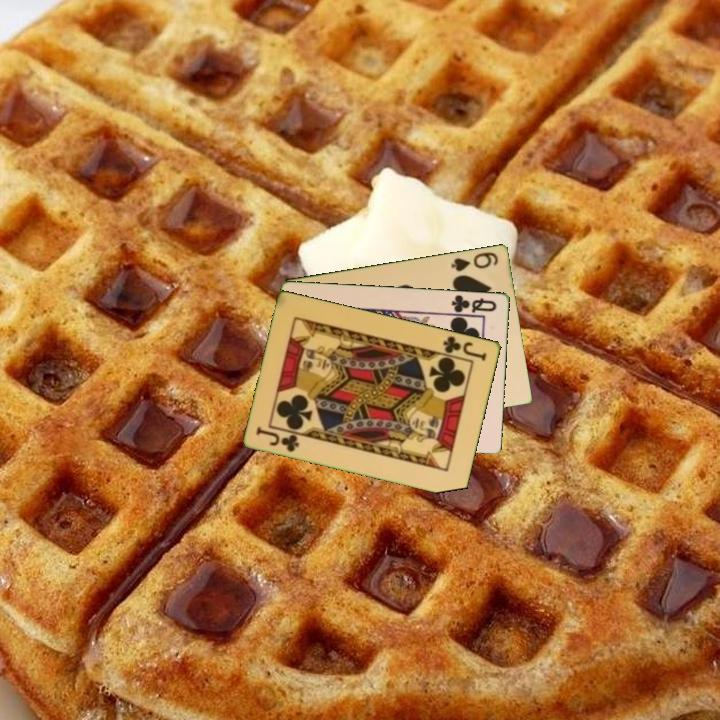6s: (448, 248, 501, 274)
Jc: (440, 332, 490, 364), (253, 423, 302, 455)
Qc: (446, 291, 500, 317)
